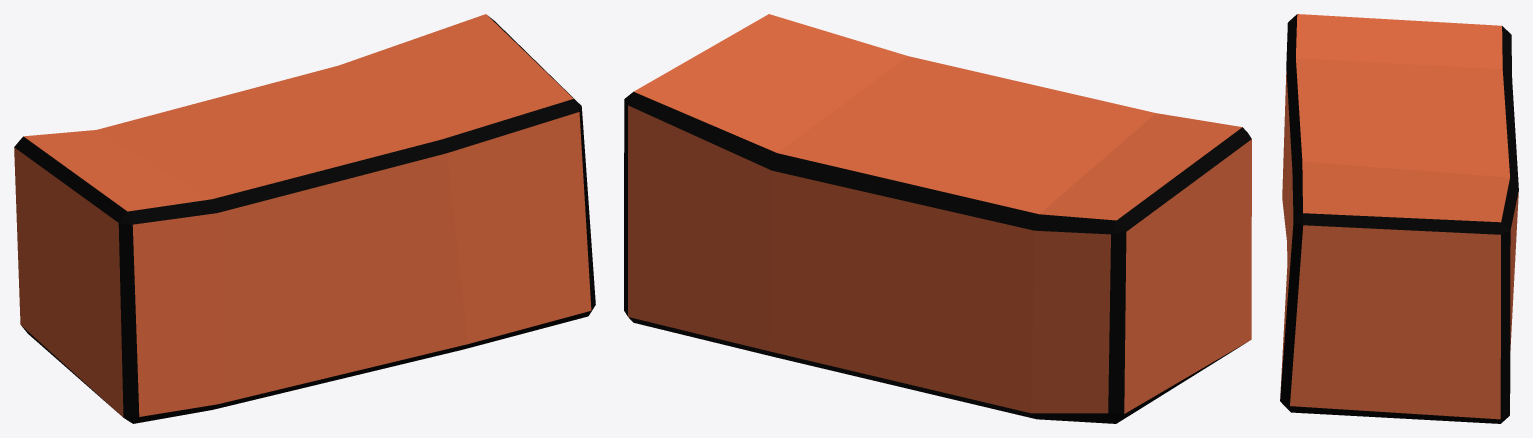
The model's file is Ladrillo.fbx.
3 renders of one model, left to right at view 1: azimuth 30°, elevation 25°; view 2: azimuth 150°, elevation 25°; view 3: azimuth 270°, elevation 25°, orthographic. The views are drawn at different scales.
Parts seen in each view (by area): view 1: Cube; view 2: Cube; view 3: Cube.
Boxes of the visible parts, x1=… form: Cube: x1=14, y1=14, x2=595, y2=423; Cube: x1=624, y1=14, x2=1251, y2=423; Cube: x1=1280, y1=14, x2=1518, y2=423.
Size of the model in its own units: 202 by 87.46 by 93.97.
